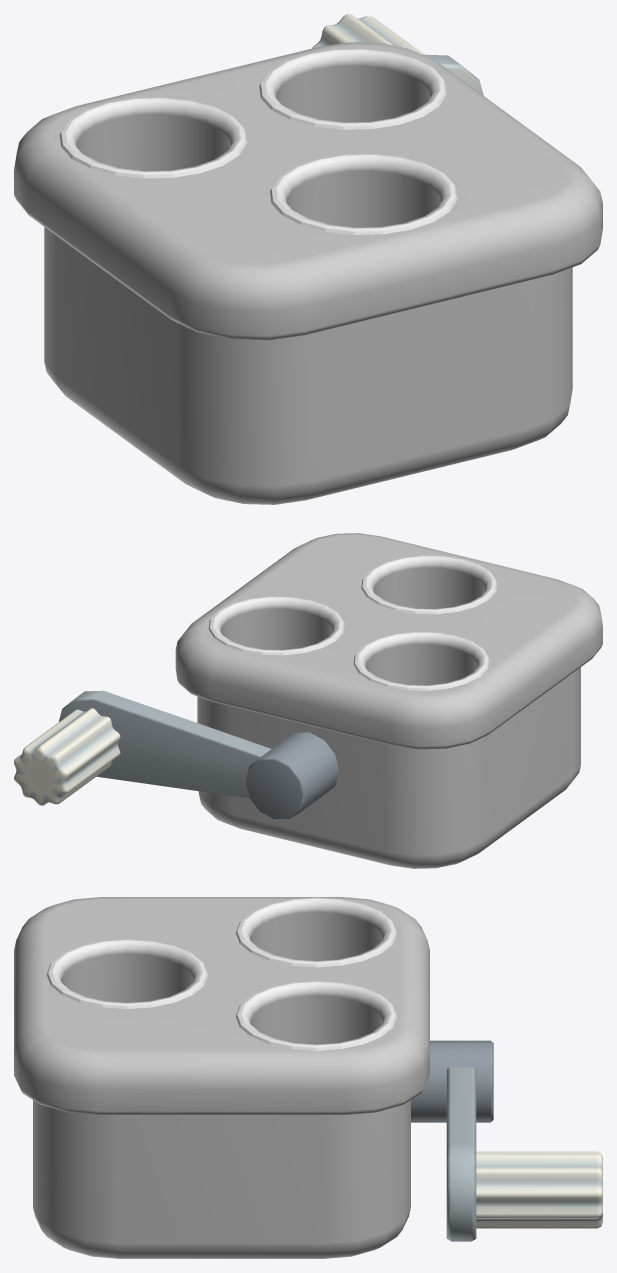
File: Sharpener.dae
3 renders of one model, top to bottom at view 1: azimuth 30°, elevation 25°; view 2: azimuth 150°, elevation 25°; view 3: azimuth 270°, elevation 25°, orthographic. The views are drawn at different scales.
Visible parts, largest first — view 1: Sharpener, Handle; view 2: Sharpener, Handle; view 3: Sharpener, Handle.
Boxes of the visible parts, x1,y1,x2,y2 form: Sharpener: (14, 42, 602, 504); Handle: (312, 14, 483, 95); Sharpener: (175, 533, 602, 868); Handle: (14, 690, 339, 820); Sharpener: (14, 897, 429, 1258); Handle: (411, 1040, 602, 1241).
Size of the model in its own units: 1.91 by 0.8837 by 2.18.
